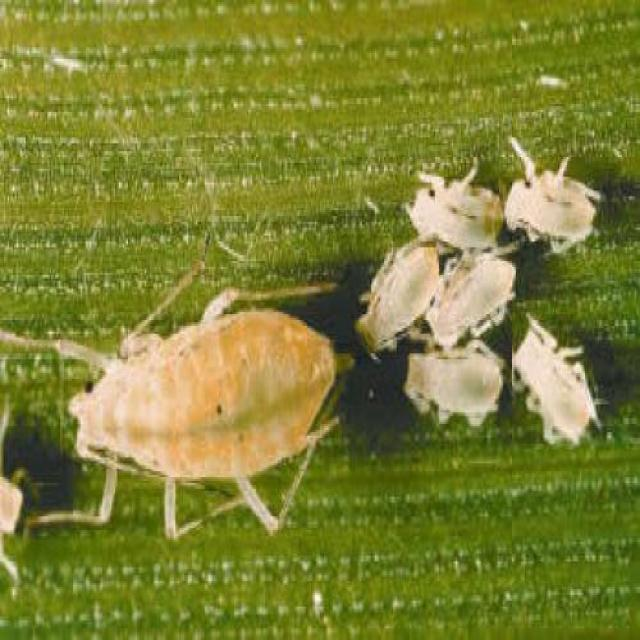Aphids: (28, 241, 358, 580)
